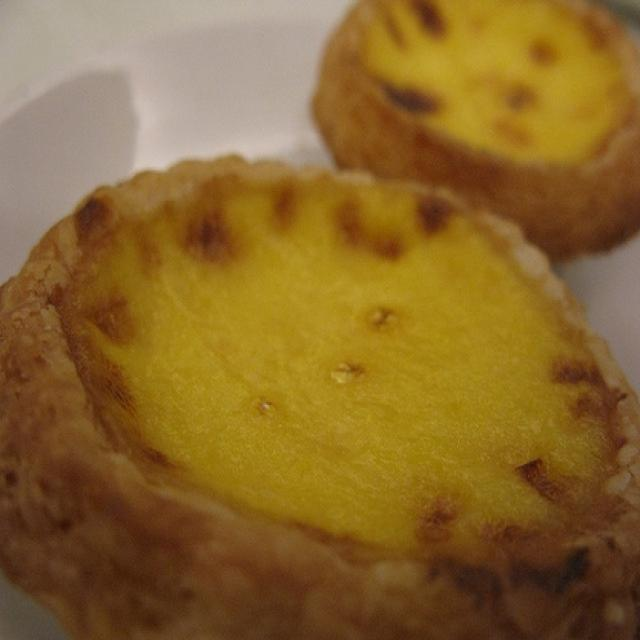炸货点心: (3, 2, 626, 631)
蛋糕甜品: (3, 2, 626, 631)
